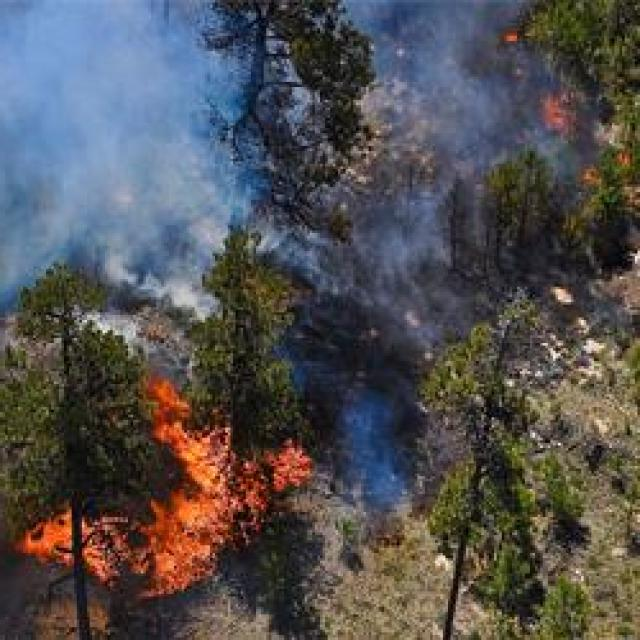fire: (151, 384, 197, 459), (172, 501, 205, 547), (40, 520, 66, 546)
smoke: (0, 105, 198, 239), (0, 0, 172, 122), (0, 136, 65, 248), (382, 202, 430, 274), (459, 79, 502, 129), (348, 401, 384, 456), (170, 281, 198, 309)
